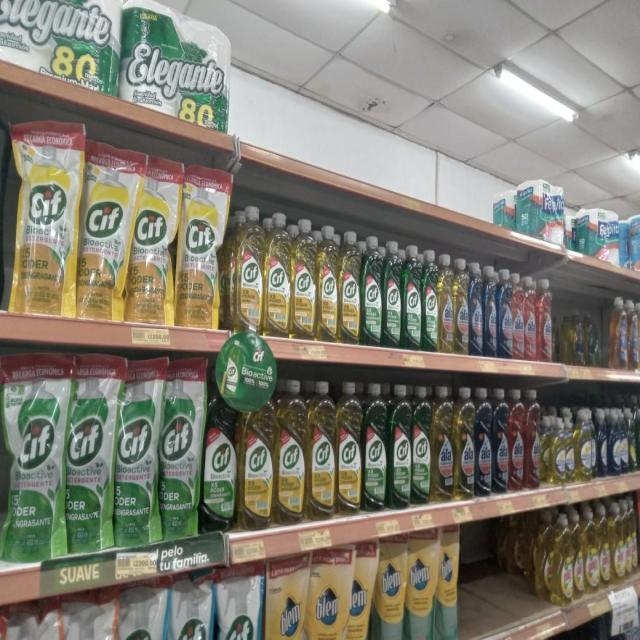ala_conc_amarillo: (432, 384, 453, 502), (454, 386, 475, 501), (438, 253, 453, 354), (454, 257, 468, 356)
ala_conc_azul: (475, 387, 492, 498), (492, 387, 508, 495), (469, 262, 483, 358), (498, 268, 512, 360), (484, 264, 497, 358)
ala_conc_rojo: (509, 388, 524, 492), (525, 390, 540, 490), (537, 278, 553, 362), (525, 276, 537, 362), (513, 272, 524, 361)
cif_conc_bot_amarilla: (239, 381, 274, 530), (276, 378, 306, 525), (307, 378, 335, 520), (234, 204, 263, 336), (336, 380, 362, 518), (264, 210, 290, 338), (292, 217, 316, 340), (317, 223, 338, 342), (339, 229, 360, 345)
cif_conc_botella_verde: (202, 366, 237, 533), (363, 382, 387, 514), (388, 383, 411, 511), (361, 234, 382, 347), (412, 384, 431, 506), (383, 240, 402, 348), (403, 243, 421, 351), (422, 249, 438, 352)
cif_conc_sachet_amarillo: (10, 119, 77, 317), (79, 141, 127, 321), (129, 157, 175, 325), (177, 165, 224, 329), (264, 553, 306, 640), (216, 561, 261, 640), (119, 581, 165, 640), (64, 591, 116, 640), (5, 601, 58, 640)
cif_conc_sachet_verde: (1, 352, 64, 564), (66, 353, 113, 554), (114, 357, 159, 548), (160, 355, 200, 539), (168, 572, 212, 640)
magistral_con_amarillo: (576, 408, 595, 483), (551, 414, 565, 486), (565, 409, 575, 485)
magistral_con_azul: (609, 408, 623, 477), (597, 408, 608, 478)
